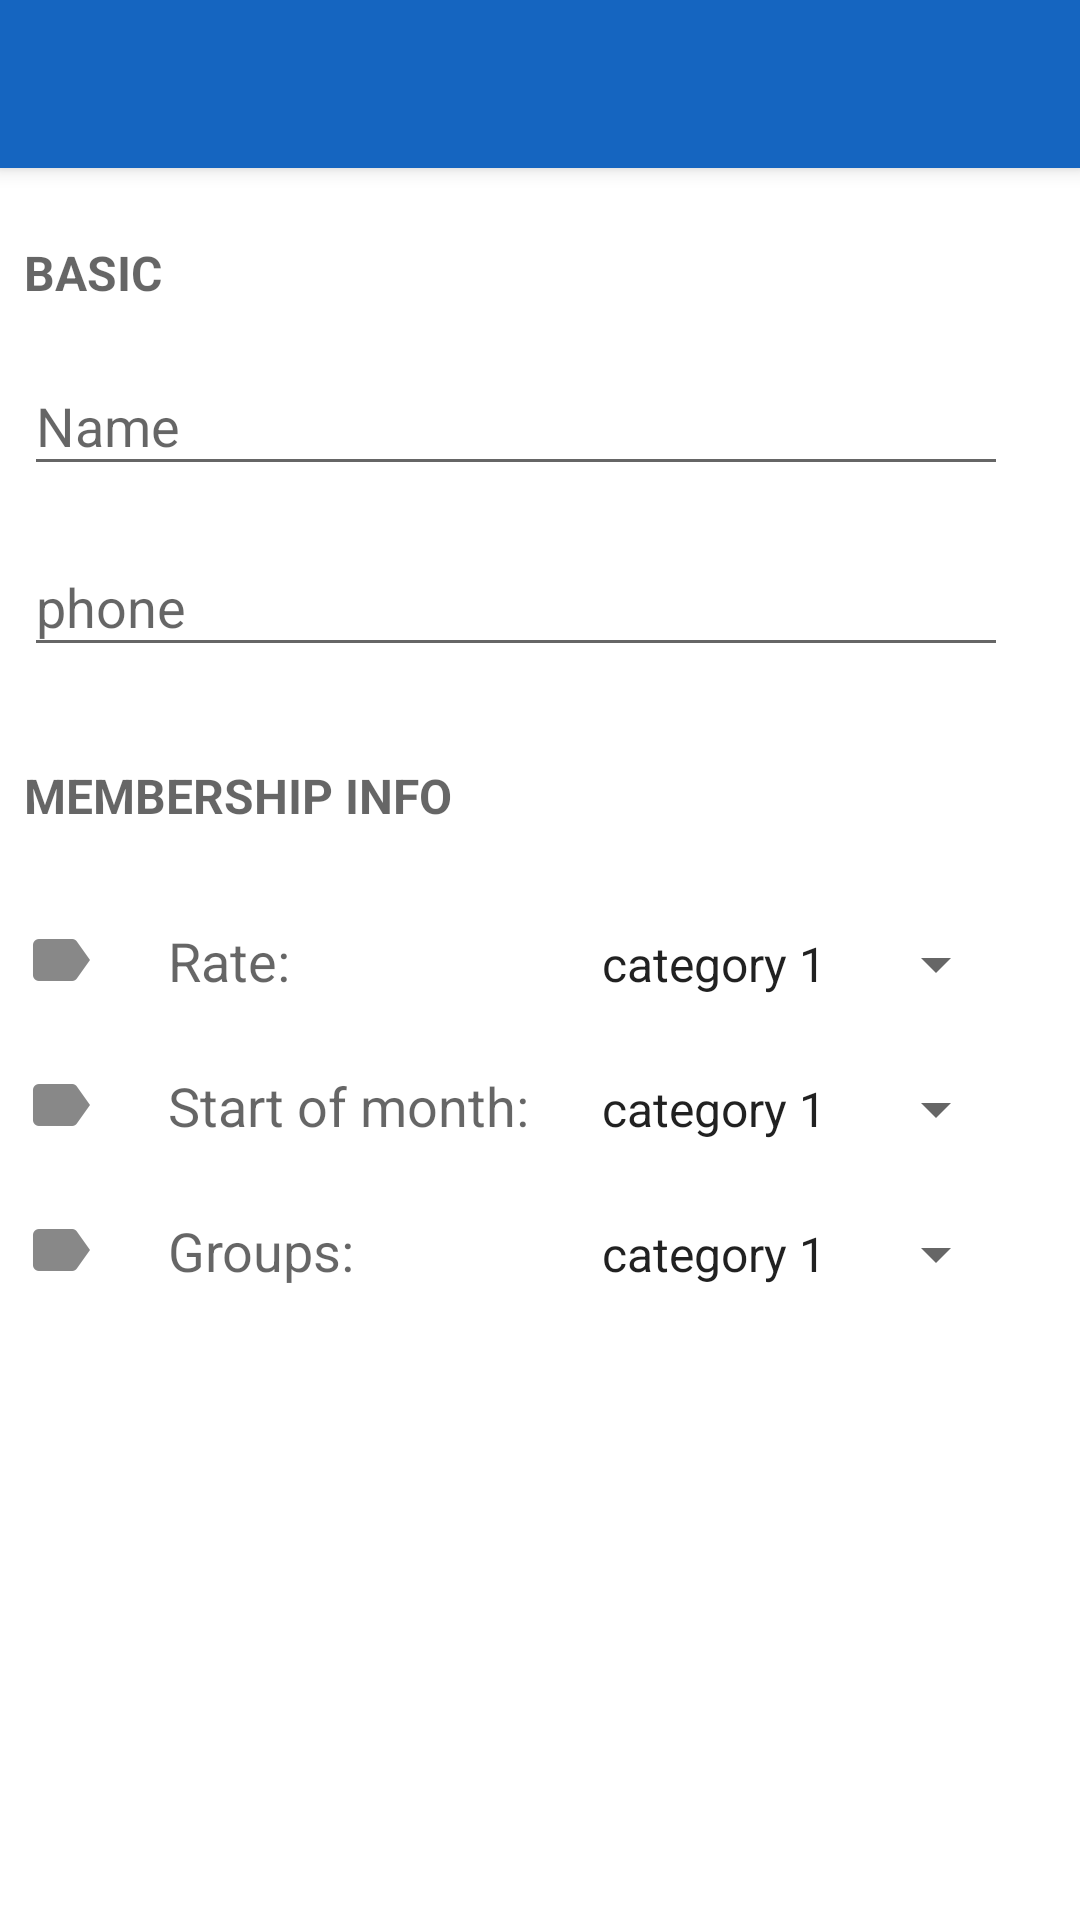

Locate icon controls on the screen. Image size 1080px×1920px, boxes as (left=x1, top=y1, right=x2, bottom=y2).
label: (left=33, top=939, right=90, bottom=981), (left=33, top=1084, right=90, bottom=1126), (left=33, top=1229, right=90, bottom=1271)
